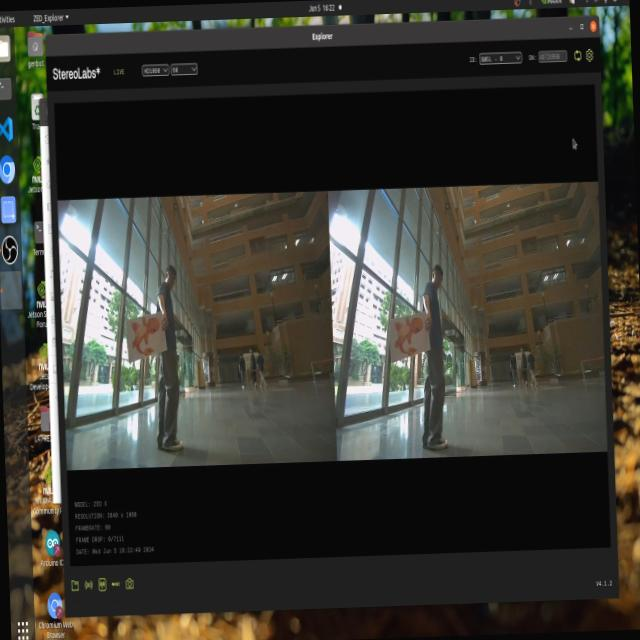red: (119, 303, 173, 362), (392, 307, 428, 360)
